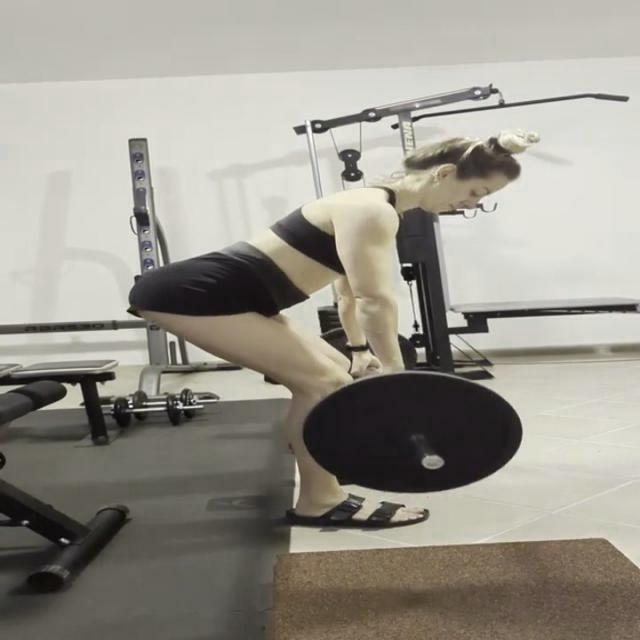barbell: (298, 367, 525, 497)
